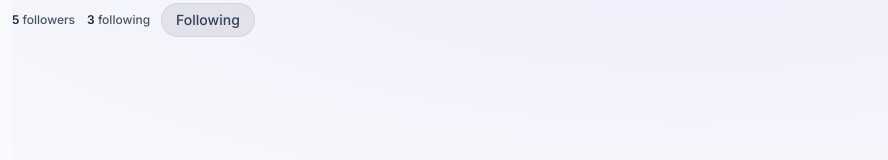
Test case: ProfileFollowSection › unfollows and decrements the follower count
The width and height of the screenshot is (888, 160).
Click the button with aria-label "Unfollow": (208, 20) 162,4 -> 254,36
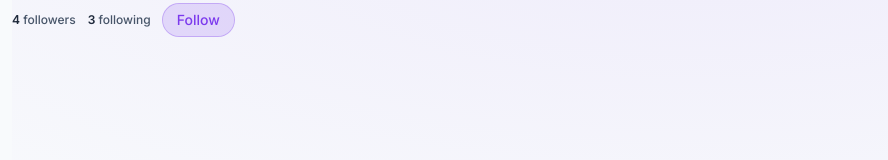
Check: the button labelled "Follow" is shown, box 163,4 -> 234,36
Check: the text "4" is shown, box 12,12 -> 20,27
